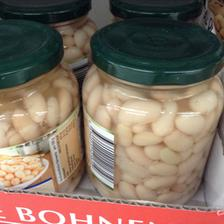Bohnen: (86, 18, 220, 206), (0, 18, 76, 193)
